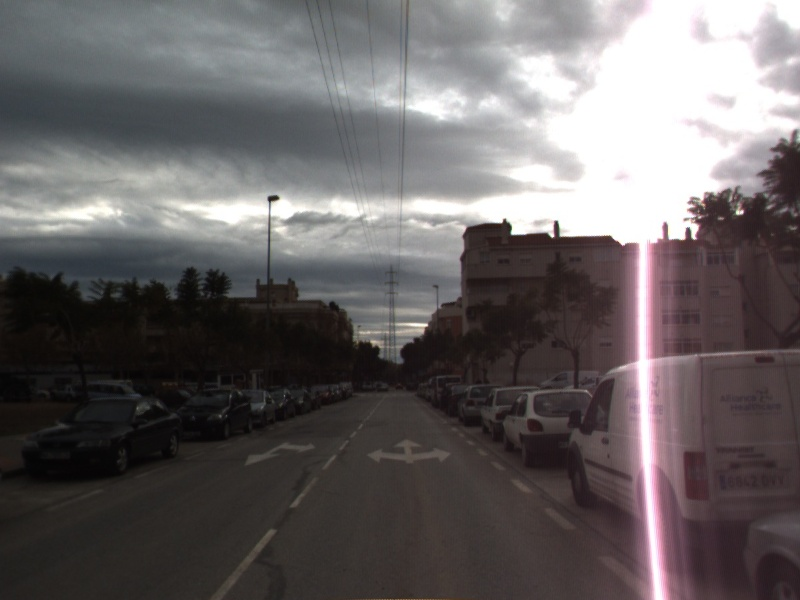STRAIGHT_LEFT_RIGHT: (365, 437, 454, 465)
